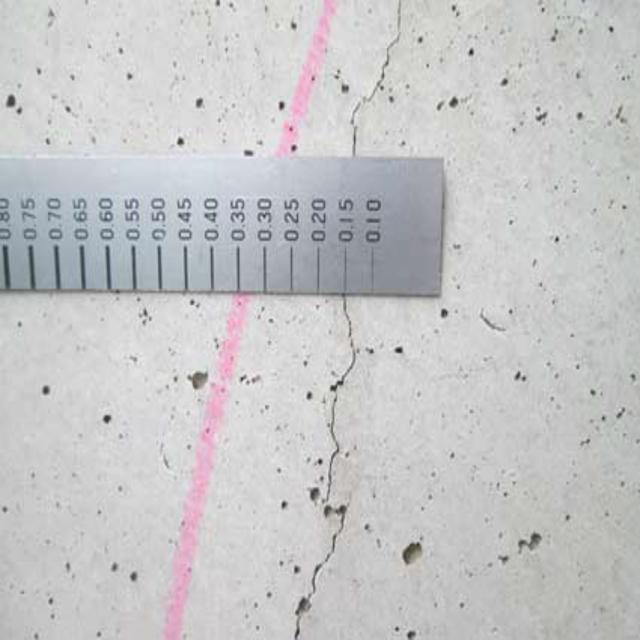crack: (280, 298, 385, 640), (340, 3, 417, 161)
